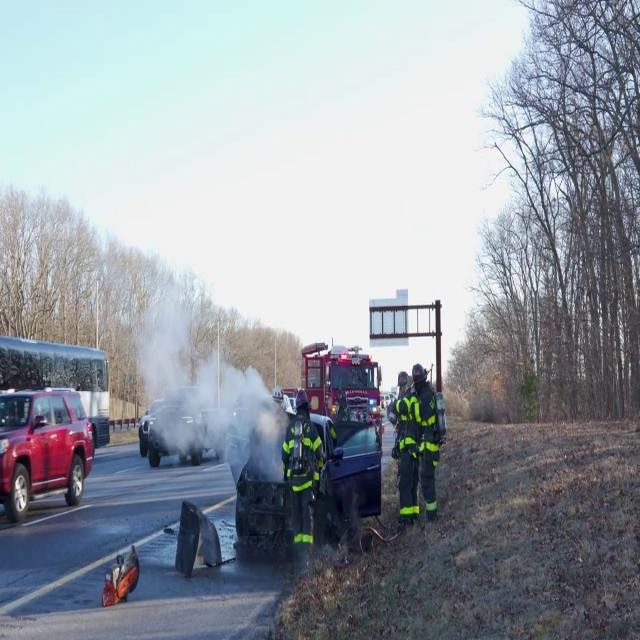Smoke: (127, 249, 284, 479)
